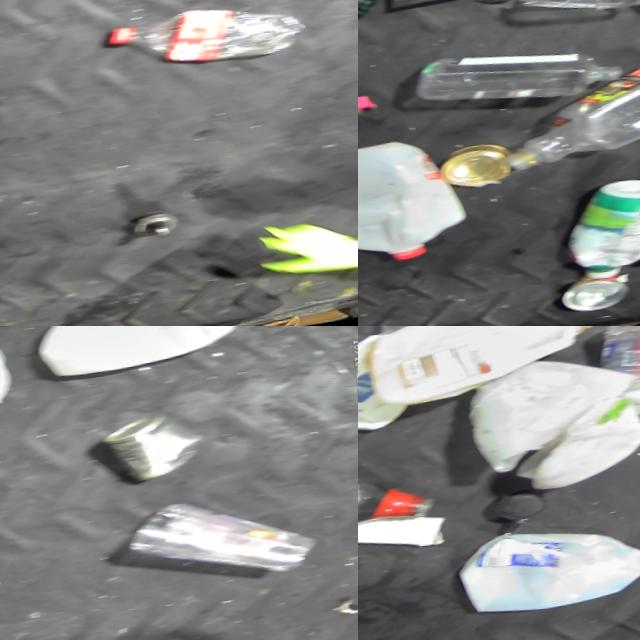can: (93, 417, 194, 492), (443, 143, 509, 194), (553, 281, 631, 321)
milk_jug: (463, 349, 640, 504), (444, 518, 640, 630), (358, 326, 604, 415), (358, 129, 478, 281), (31, 326, 253, 389)
plastic_bottle: (98, 0, 306, 88), (499, 50, 640, 179), (428, 38, 627, 114)
